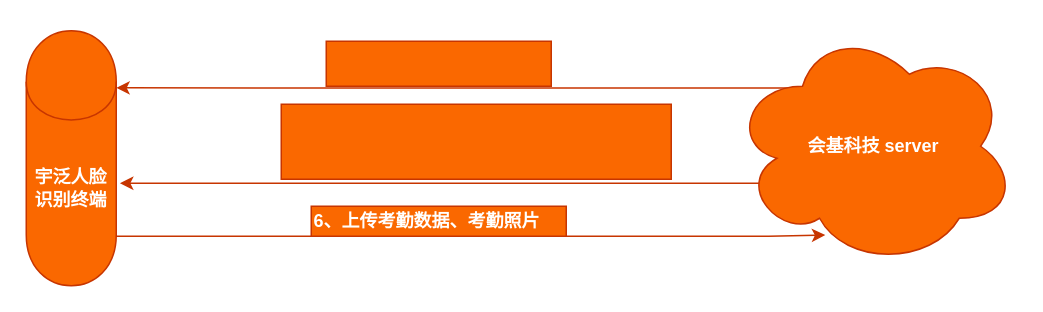
This 1043x312 diagram has some shape labels left out. Each missing label, with the box of its shape:
1、获取交互服务器地址 2、在终端设置交互服务器: (325, 40, 551, 86)
3、联系会基科技客服部绑定设备编号 4、通过接口获取交互秘钥 5、拉取项目组织架构/人员头像/人脸样本/卡号: (280, 103, 671, 179)
